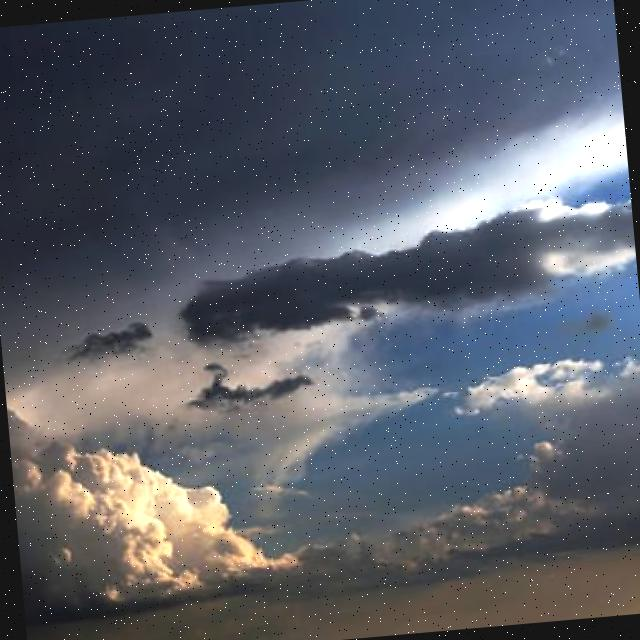Ns: (72, 176, 640, 428)
